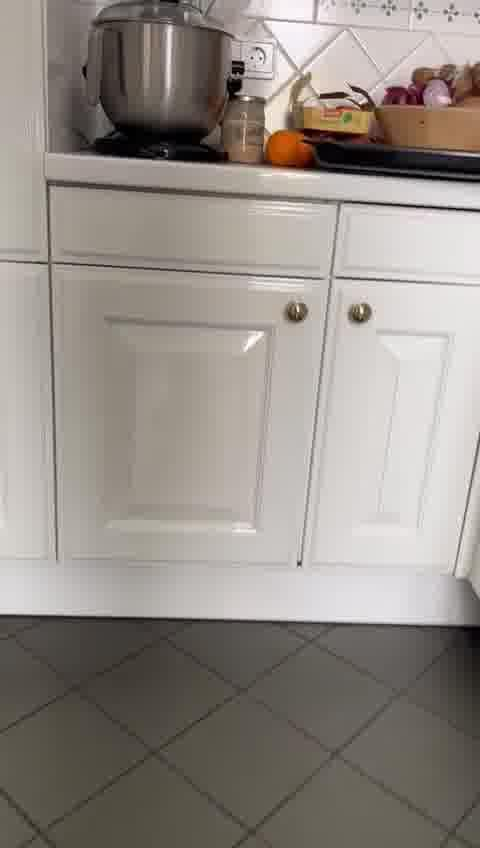cabinet_door: (57, 274, 319, 596), (322, 281, 480, 617), (52, 184, 332, 273), (0, 271, 52, 562), (0, 4, 45, 265), (335, 202, 480, 279)
handle: (344, 297, 375, 335), (283, 295, 310, 334)
